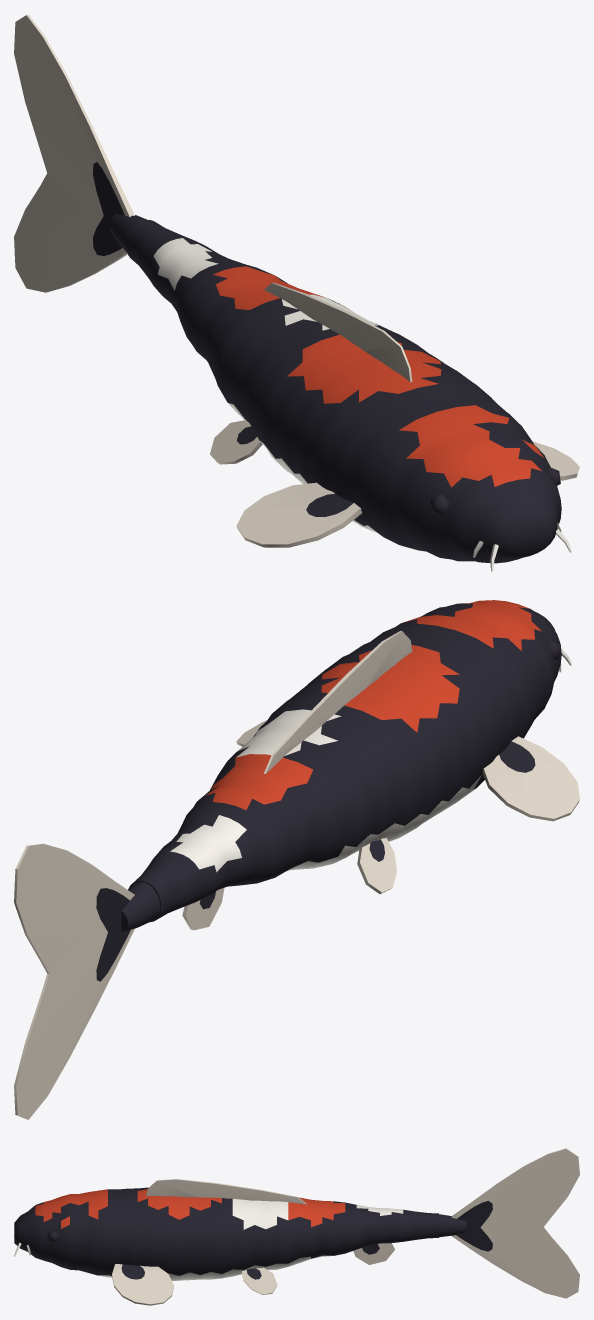
File: koi_showa.glb
3 views of the same model, one above another, from view 1: azimuth 30°, elevation 25°; view 2: azimuth 150°, elevation 25°; view 3: azimuth 270°, elevation 25° (orthographic). The views are drawn at different scales.
Parts seen in each view (by area): view 1: body, tail; view 2: body, tail; view 3: body, tail.
Part boxes in pixels (box(x1,y1,x2,y2)): body: box(126, 220, 579, 571); tail: box(14, 14, 147, 292); body: box(128, 600, 579, 930); tail: box(14, 843, 160, 1119); body: box(14, 1179, 438, 1305); tail: box(439, 1148, 579, 1298).
Bounding box in the file's own units: 0.1362 × 0.109 × 0.3733.
